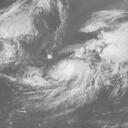cyclone: (45, 59, 90, 84)
